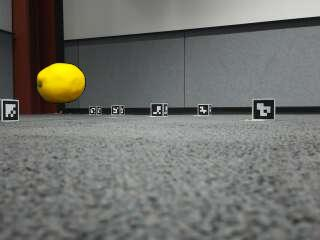lemon: (39, 64, 86, 104)
